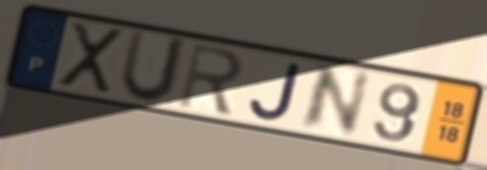9: (370, 82, 425, 143)
J: (247, 59, 306, 124)
N: (295, 63, 375, 138)
R: (175, 40, 246, 118)
U: (116, 27, 192, 107)
X: (56, 19, 127, 97)
